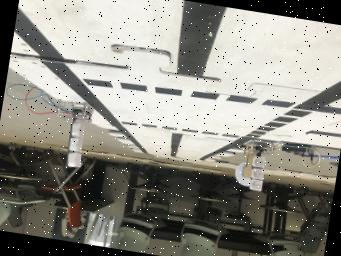street: (13, 0, 341, 162), (13, 0, 341, 162), (13, 0, 341, 162)
traffic_light: (55, 100, 93, 168), (55, 100, 93, 168), (55, 100, 93, 168), (243, 140, 274, 191), (243, 140, 274, 191), (243, 140, 274, 191)
